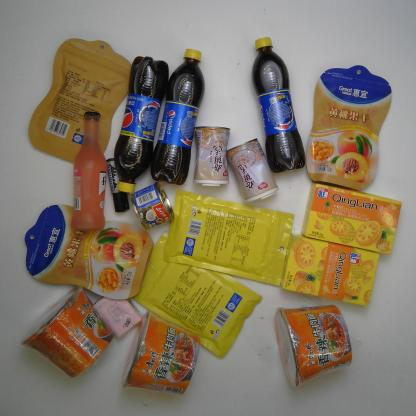Alcohol: (70, 111, 107, 231)
Canned Food: (226, 138, 279, 204), (193, 125, 231, 187), (131, 181, 175, 230)
Dessert: (280, 232, 380, 307), (301, 182, 403, 254)
Dried Fruit: (130, 231, 263, 359), (28, 37, 132, 165), (163, 188, 295, 287), (24, 204, 154, 300), (305, 64, 393, 191)
Drink: (149, 47, 207, 185), (113, 56, 170, 195), (251, 36, 306, 174)
Instant Noodles: (20, 284, 116, 378), (121, 309, 201, 396), (274, 304, 352, 388)
Stationery: (106, 158, 130, 213)
Tissue: (93, 294, 143, 338)
